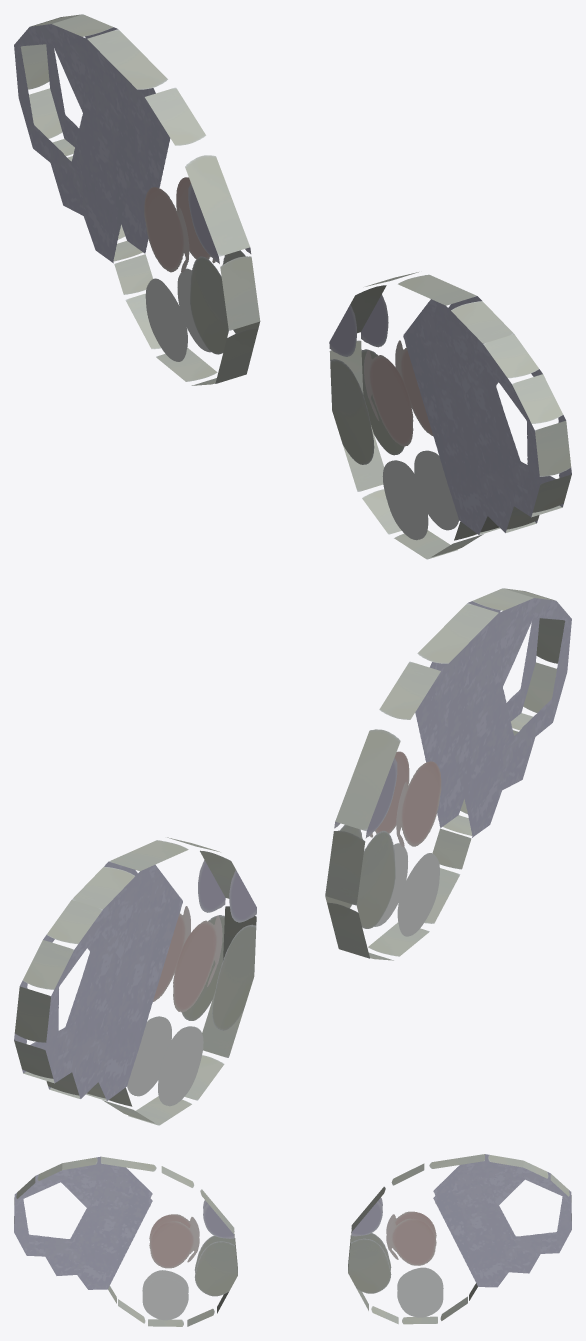
Rendered from wings.fbx.
The picture shows the model from 3 angles, top to bottom: view 1: azimuth 30°, elevation 25°; view 2: azimuth 150°, elevation 25°; view 3: azimuth 270°, elevation 25°; orthographic projection. The views are drawn at different scales.
Parts seen in each view (by area): view 1: pasted__pCube9, pasted__pCube8; view 2: pasted__pCube8, pasted__pCube9; view 3: pasted__pCube9, pasted__pCube8.
Part boxes in pixels (x1,y1,x2,y2): pasted__pCube9: (14,14,260,385); pasted__pCube8: (329,272,571,559); pasted__pCube8: (325,588,571,960); pasted__pCube9: (14,837,256,1125); pasted__pCube9: (348,1154,571,1324); pasted__pCube8: (14,1156,237,1326).
Bounding box in the file's own units: 0.1879 × 0.9512 × 2.99.
